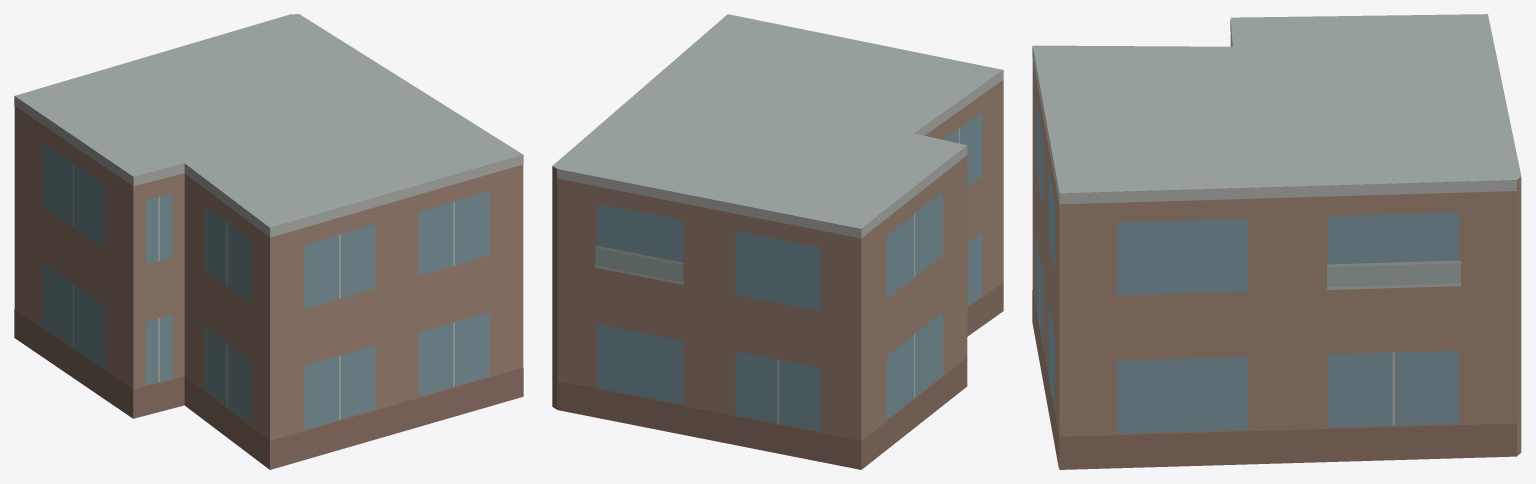
File: survey-upis-32913657.glb
The picture shows the model from 3 angles, left to right: view 1: azimuth 30°, elevation 25°; view 2: azimuth 150°, elevation 25°; view 3: azimuth 270°, elevation 25°; orthographic projection. The views are drawn at different scales.
Visible parts, largest first — view 1: survey-upis-32913657.tmp; view 2: survey-upis-32913657.tmp; view 3: survey-upis-32913657.tmp.
Boxes of the visible parts, x1,y1,x2,y2 form: survey-upis-32913657.tmp: (14, 14, 523, 469); survey-upis-32913657.tmp: (552, 14, 1003, 469); survey-upis-32913657.tmp: (1032, 14, 1521, 469).
Size of the model in its own units: 8.5 by 6.1 by 9.79.
